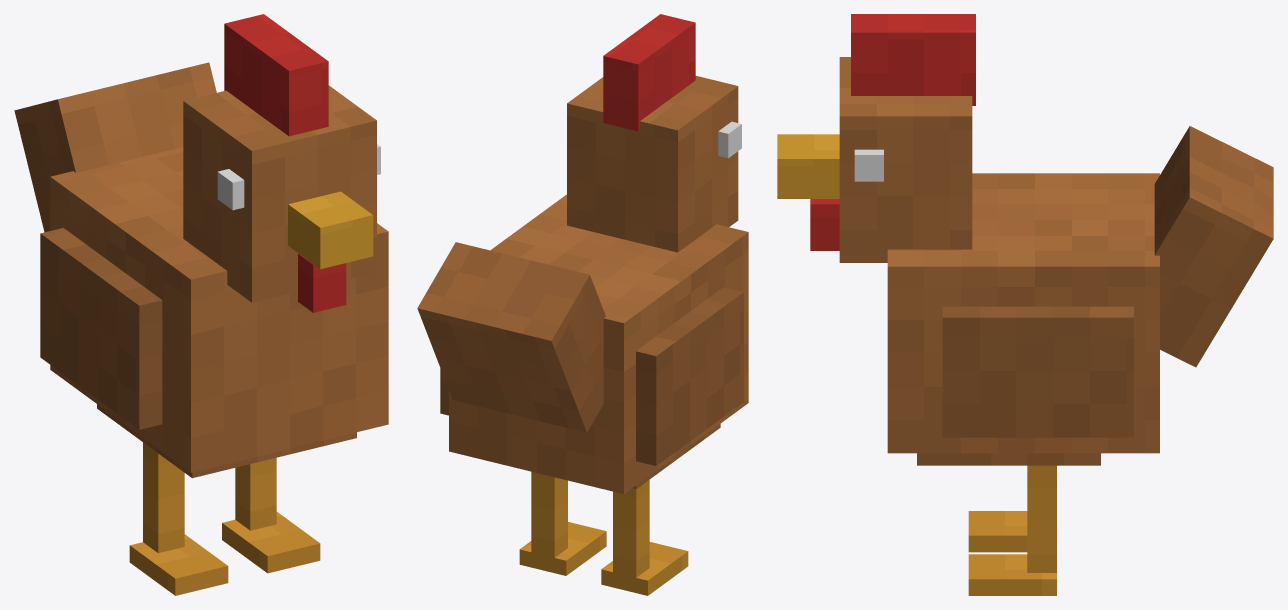
The model's file is chicken_brown.glb.
3 renders of one model, left to right at view 1: azimuth 30°, elevation 25°; view 2: azimuth 150°, elevation 25°; view 3: azimuth 270°, elevation 25°, orthographic. The views are drawn at different scales.
Visible parts, largest first — view 1: Torso, Head, ArmR, LegR, LegL; view 2: Torso, Head, ArmR, LegR, LegL; view 3: Torso, Head, ArmL, LegL, LegR.
Boxes of the visible parts, x1=… form: Torso: x1=14, y1=62, x2=388, y2=478; Head: x1=183, y1=14, x2=380, y2=312; ArmR: x1=40, y1=228, x2=162, y2=429; LegR: x1=129, y1=442, x2=228, y2=595; LegL: x1=222, y1=457, x2=320, y2=573; Torso: x1=417, y1=194, x2=748, y2=493; Head: x1=567, y1=14, x2=741, y2=252; ArmR: x1=636, y1=287, x2=743, y2=465; LegR: x1=601, y1=480, x2=688, y2=595; LegL: x1=519, y1=471, x2=606, y2=575; Torso: x1=887, y1=126, x2=1273, y2=465; Head: x1=777, y1=14, x2=975, y2=262; ArmL: x1=942, y1=306, x2=1133, y2=437; LegL: x1=968, y1=465, x2=1056, y2=595; LegR: x1=968, y1=511, x2=1027, y2=552.
Bounding box in the file's own units: 0.37 × 0.8075 × 0.6748.
8 materials, 8 textured.
